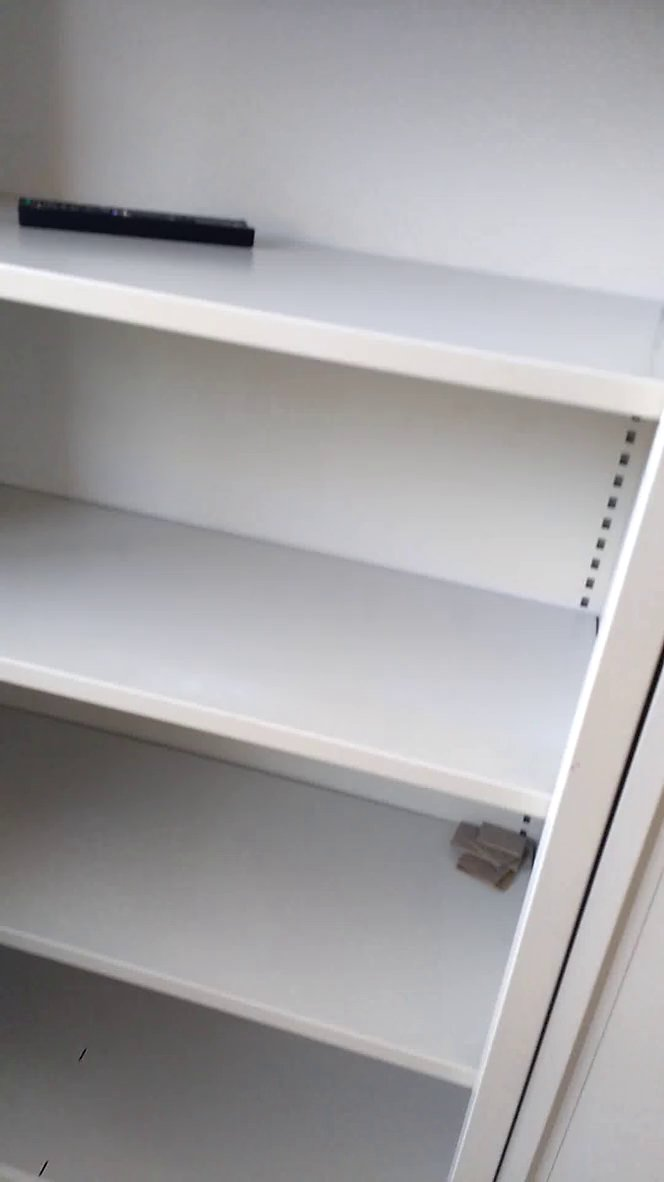remote: (8, 179, 269, 261)
